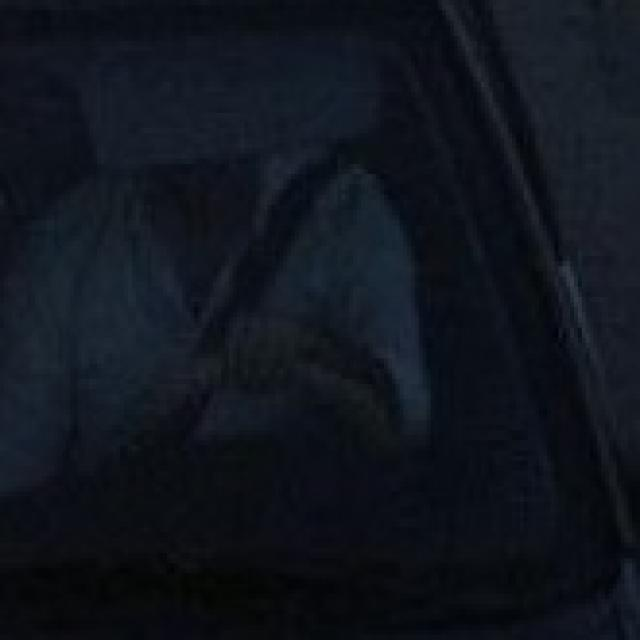seatbelt: (205, 118, 357, 328)
